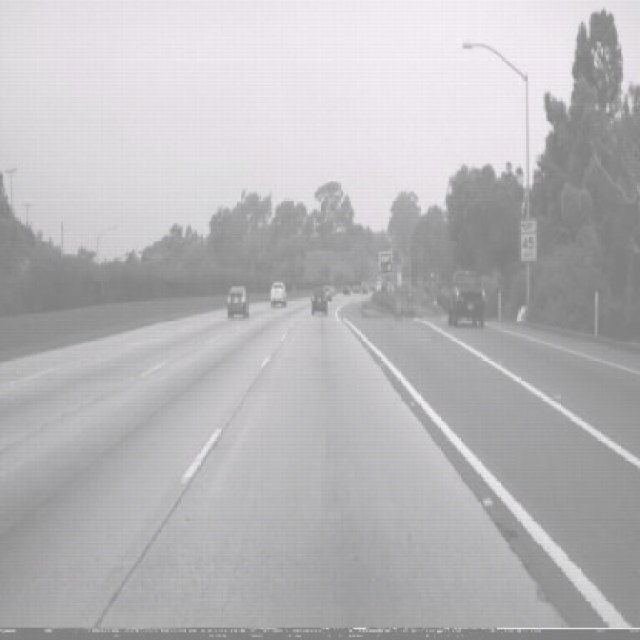rampSpeedAdvisory45: (518, 217, 537, 263)
